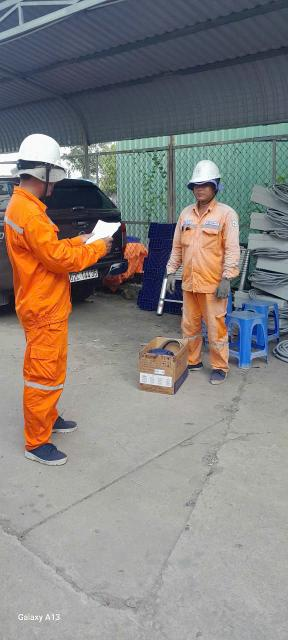gloves: (209, 273, 229, 304), (165, 273, 185, 295)
helmet: (15, 130, 81, 179), (181, 158, 222, 189)
shoes: (14, 432, 76, 466), (44, 409, 79, 438), (204, 364, 231, 393), (181, 360, 205, 375)
